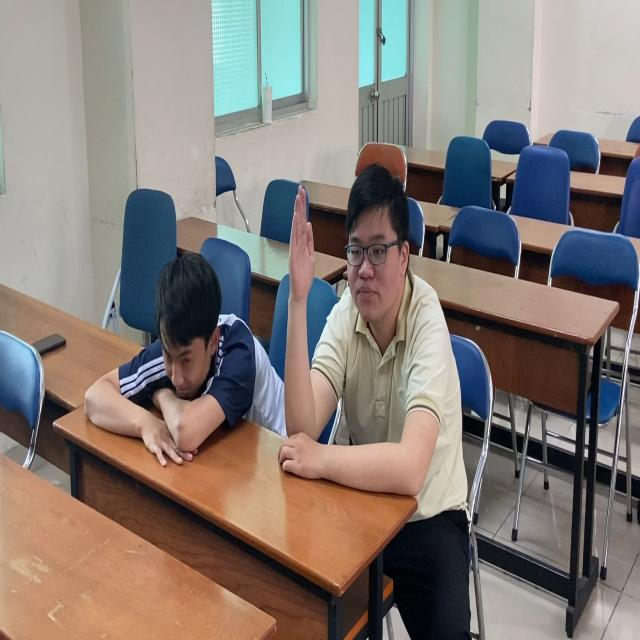raise_hand: (271, 160, 453, 502)
